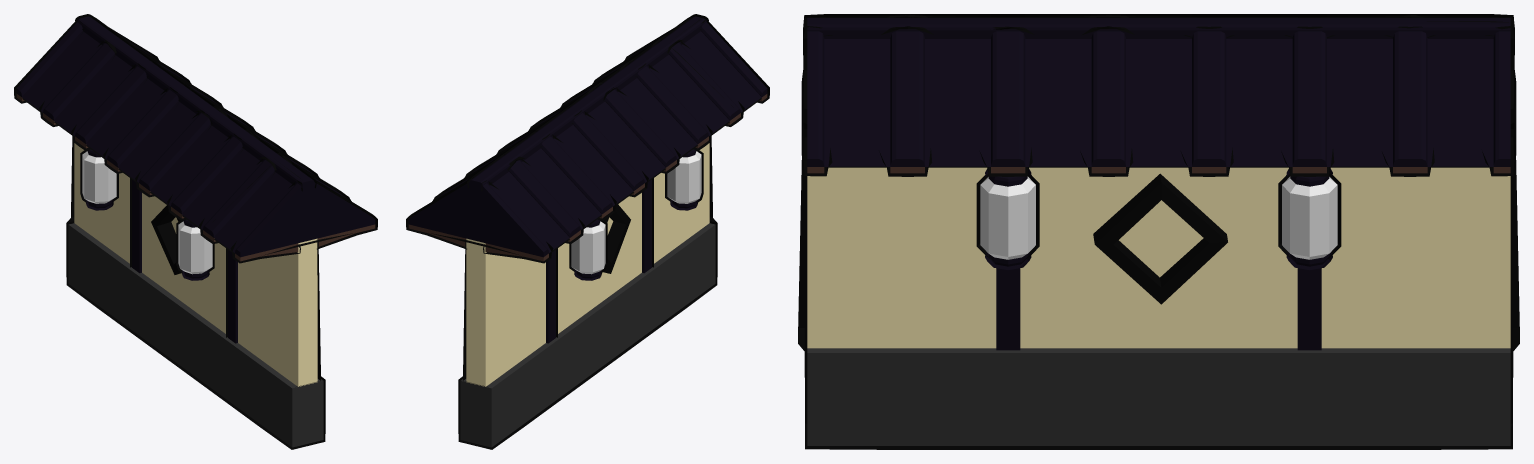
File: wall 1.fbx
3 renders of one model, left to right at view 1: azimuth 30°, elevation 25°; view 2: azimuth 150°, elevation 25°; view 3: azimuth 270°, elevation 25°, orthographic. The views are drawn at different scales.
Parts seen in each view (by area): view 1: Wall, Lantern2, Lantern1; view 2: Wall, Lantern1, Lantern2; view 3: Wall, Lantern3, Lantern4.
Part boxes in pixels (x1=…): Wall: x1=14, y1=14, x2=377, y2=449; Lantern2: x1=80, y1=149, x2=118, y2=210; Lantern1: x1=176, y1=219, x2=214, y2=280; Wall: x1=406, y1=14, x2=769, y2=449; Lantern1: x1=665, y1=149, x2=703, y2=210; Lantern2: x1=569, y1=219, x2=607, y2=280; Wall: x1=798, y1=14, x2=1519, y2=449; Lantern3: x1=976, y1=168, x2=1039, y2=270; Lantern4: x1=1278, y1=168, x2=1341, y2=270.
Bounding box in the file's own units: 432 × 791 × 1231.
